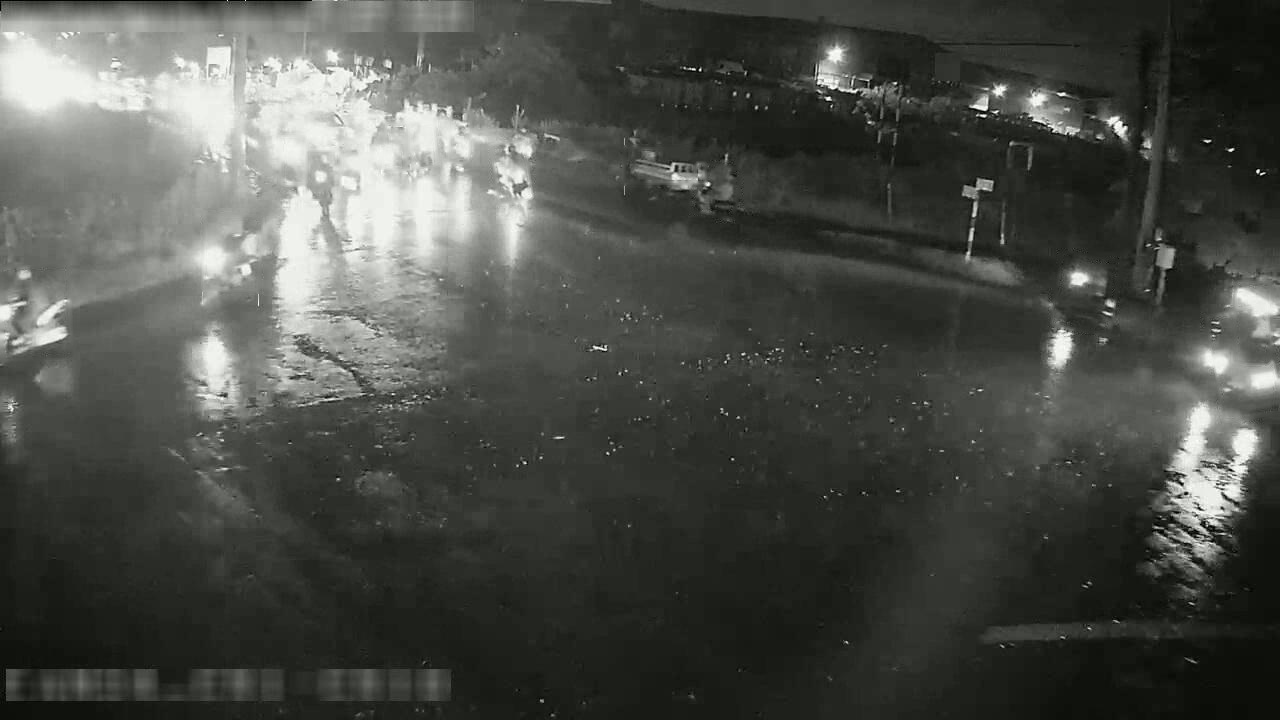Motorcyclist: (1209, 309, 1279, 416), (0, 267, 69, 367), (199, 223, 261, 306), (1053, 258, 1117, 328), (1232, 282, 1279, 363), (693, 161, 737, 216), (304, 149, 336, 216), (494, 144, 531, 201), (279, 134, 306, 186), (448, 120, 473, 171), (410, 120, 436, 169), (384, 127, 407, 173)
Sign: (975, 178, 993, 192)
Truck: (622, 143, 704, 195)
